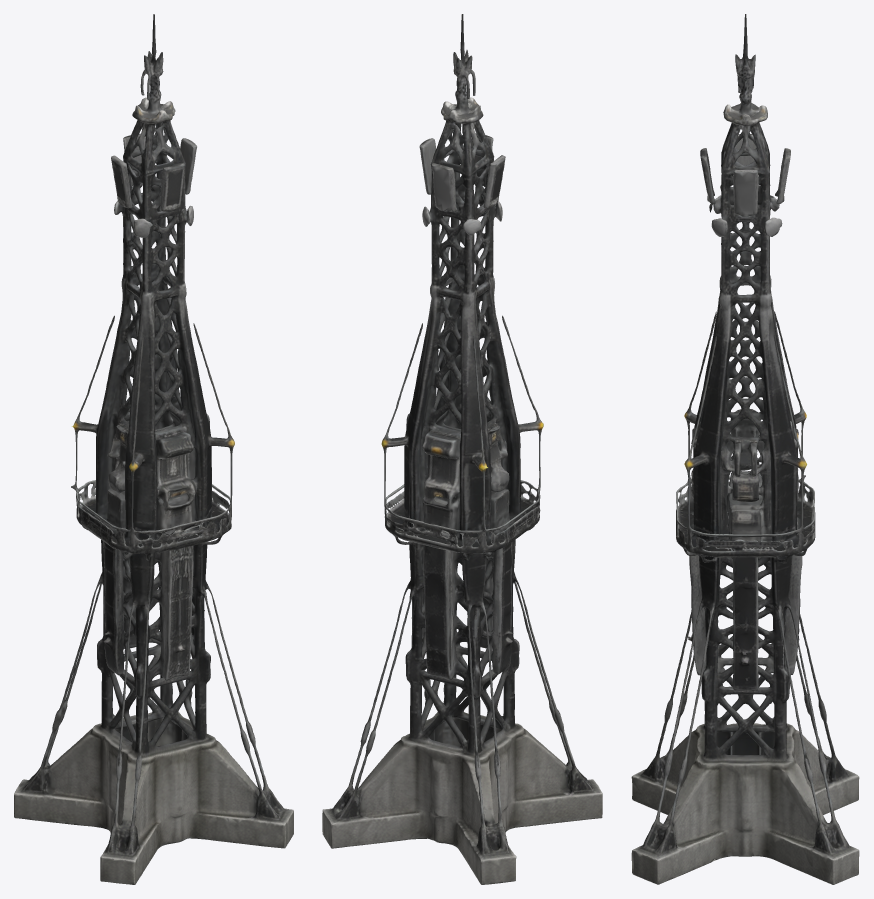
The model's file is rooftop_telemetry_antenna_mast.glb.
3 views of the same model, side by side, from view 1: azimuth 30°, elevation 25°; view 2: azimuth 150°, elevation 25°; view 3: azimuth 270°, elevation 25° (orthographic).
Size of the model in its own units: 0.4742 by 1.9 by 0.4768.
1 material, 1 textured.
